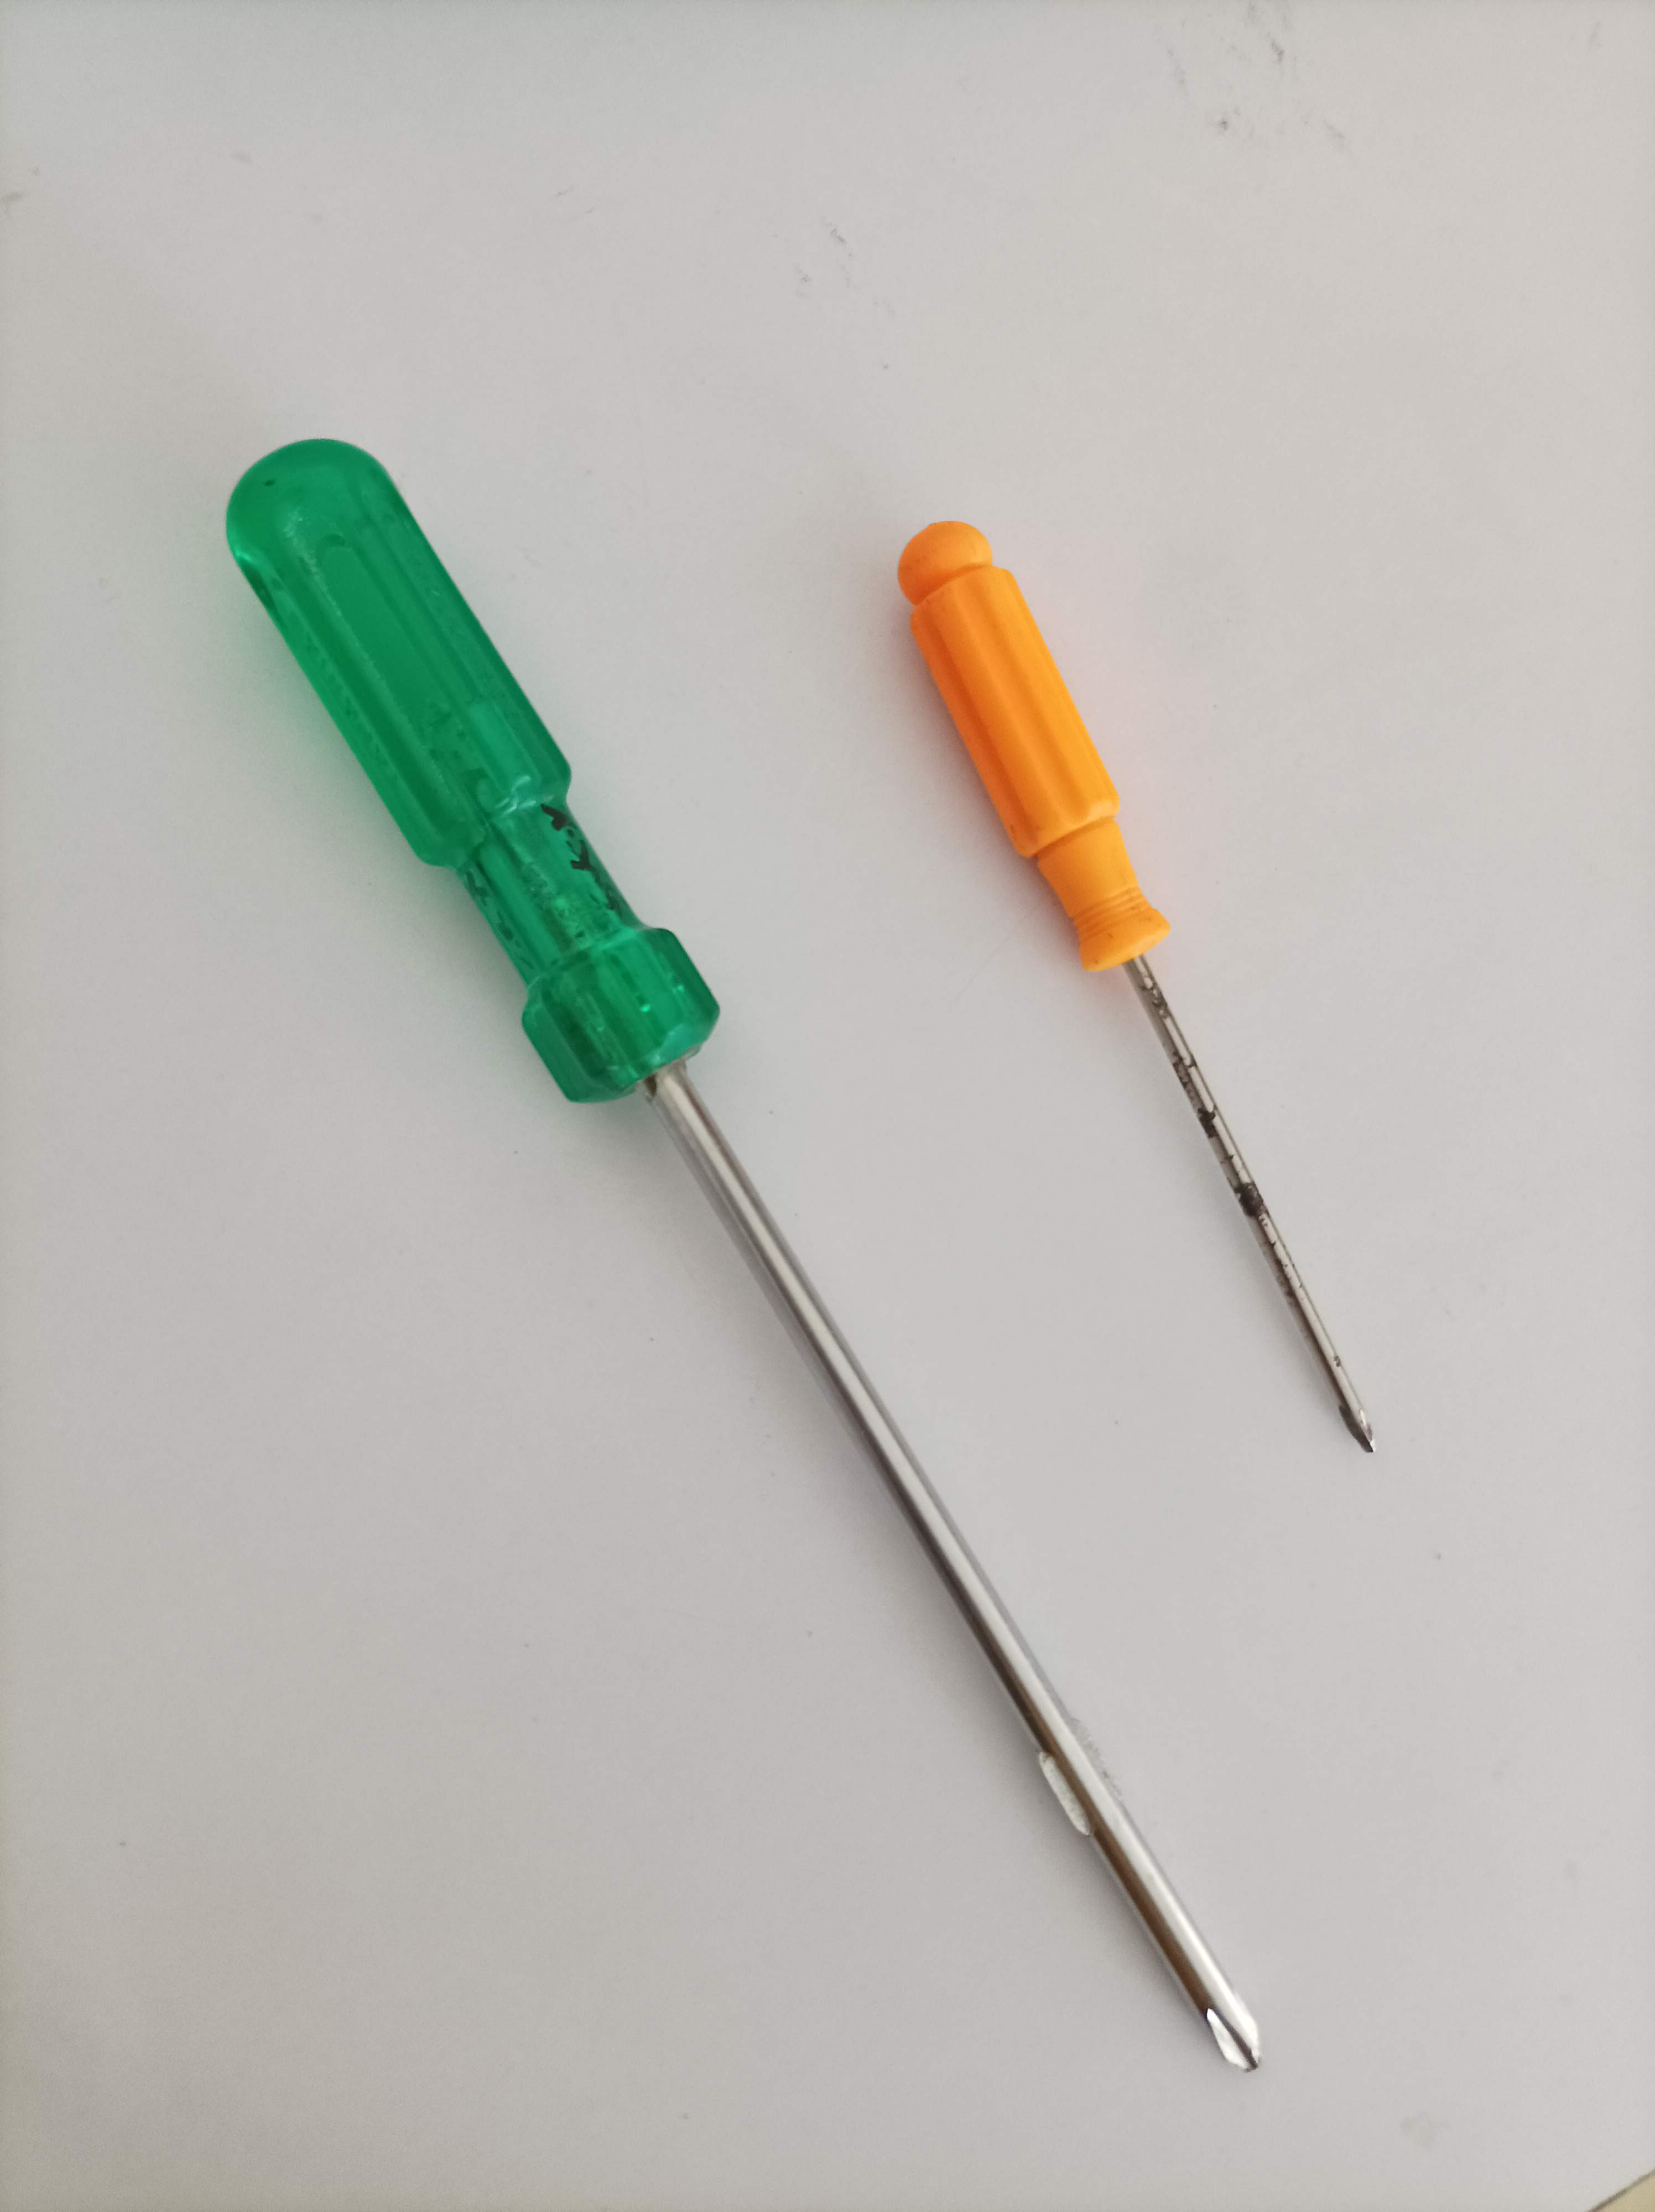screwdriver: (214, 431, 1267, 2087), (890, 504, 1386, 1472)
